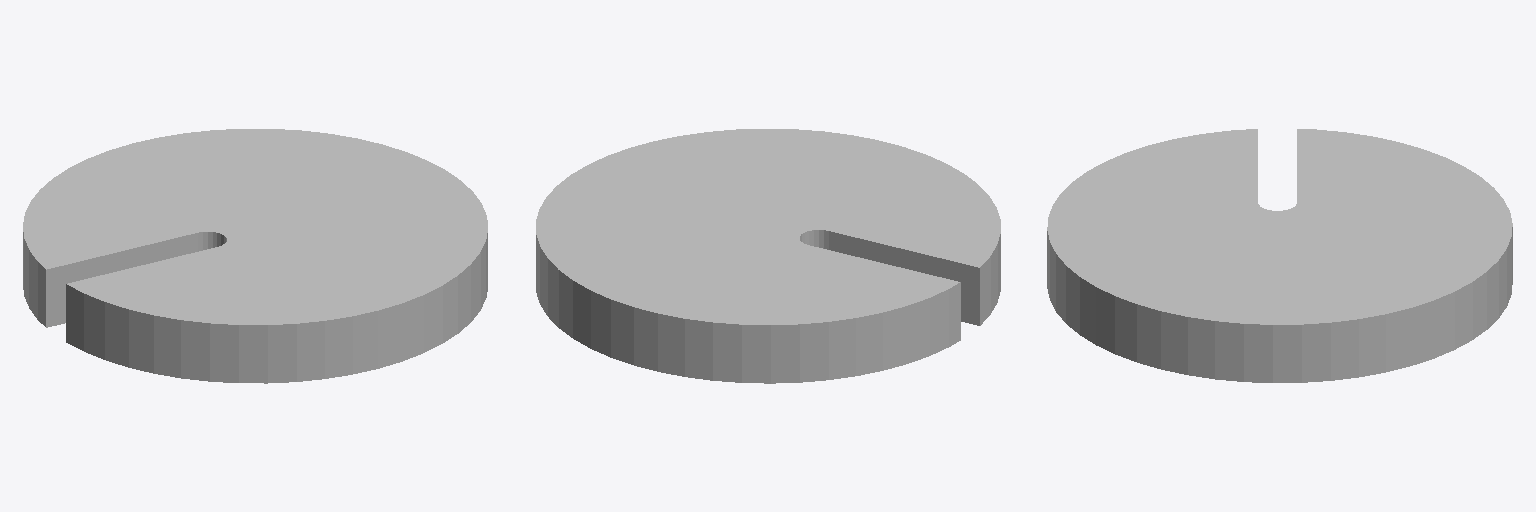
Rendered from knob cap.obj.
The picture shows the model from 3 angles: view 1: azimuth 30°, elevation 25°; view 2: azimuth 150°, elevation 25°; view 3: azimuth 270°, elevation 25°; orthographic projection.
Visible parts, largest first — view 1: Mesh1 Group1 Model; view 2: Mesh1 Group1 Model; view 3: Mesh1 Group1 Model.
Boxes of the visible parts, box(x1,y1,x2,y2) form: Mesh1 Group1 Model: box(23, 129, 487, 383); Mesh1 Group1 Model: box(536, 129, 1000, 383); Mesh1 Group1 Model: box(1047, 129, 1512, 382).
Size of the model in its own units: 18.05 by 2.5 by 18.09.